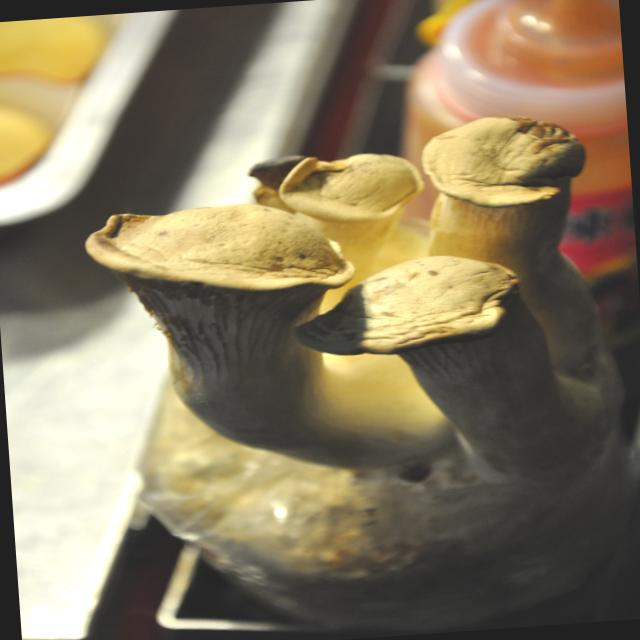Pleurotus eryngii: (222, 36, 636, 284), (216, 180, 570, 391), (390, 260, 640, 399), (527, 148, 637, 274)
